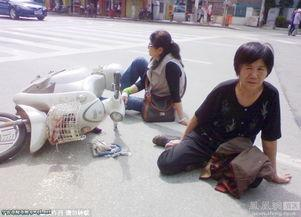bending: (163, 39, 292, 199), (115, 24, 189, 124)
